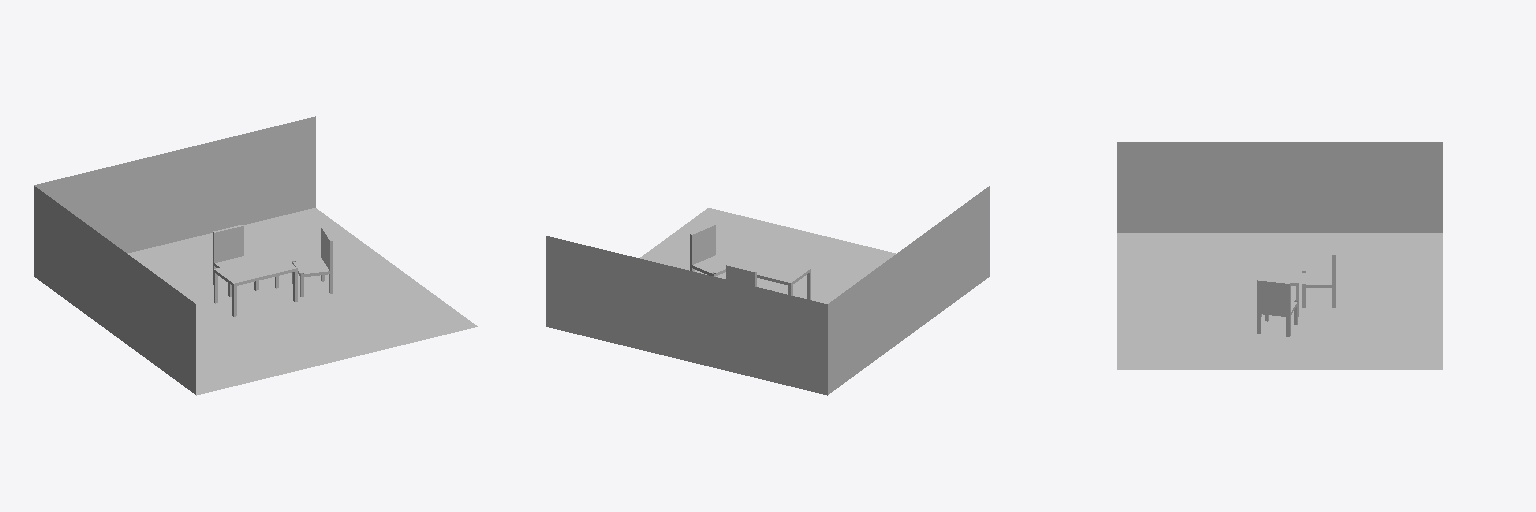
File: piece_Scene.obj
3 views of the same model, side by side, from view 1: azimuth 30°, elevation 25°; view 2: azimuth 150°, elevation 25°; view 3: azimuth 270°, elevation 25° (orthographic).
Bounding box in the file's own units: 19.4 × 6 × 19.4.